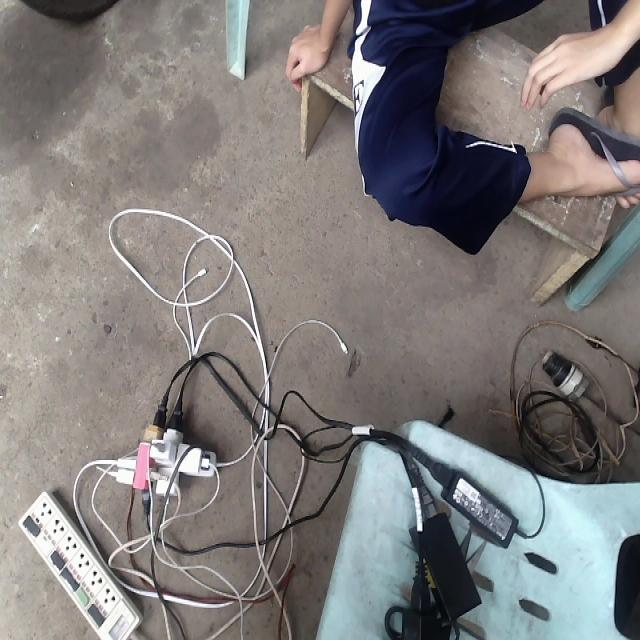-: (112, 392, 224, 503)
